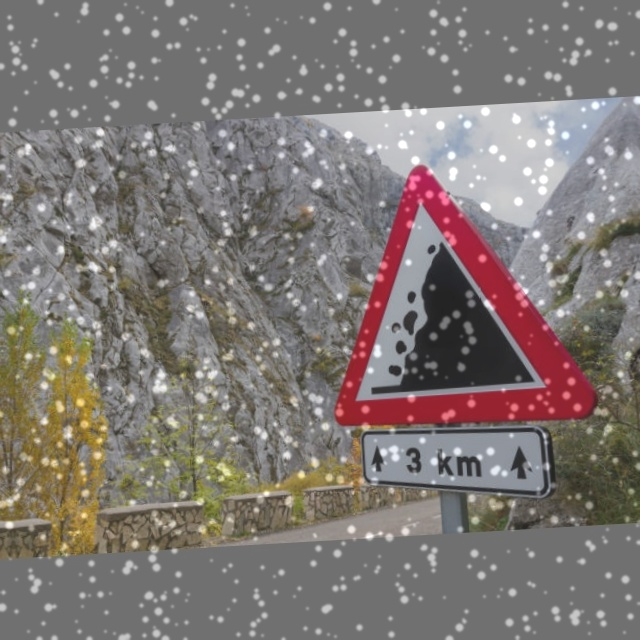Falling_Rocks: (314, 158, 592, 433)
